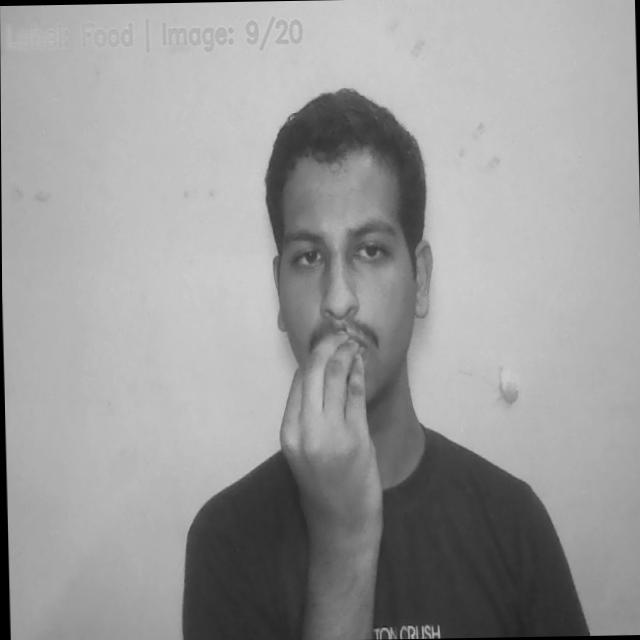Food: (274, 321, 389, 605)
